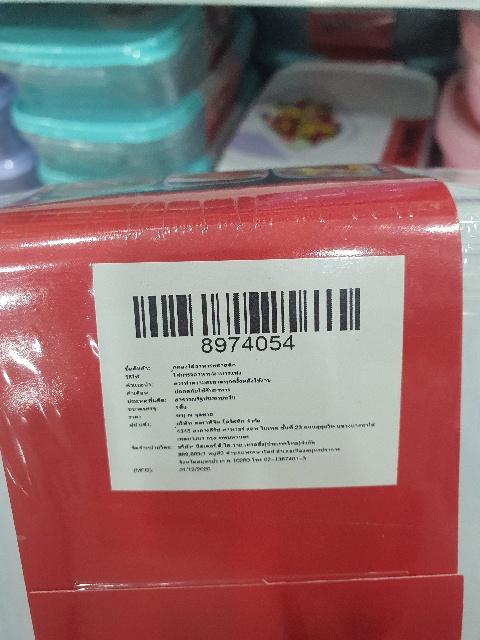Barcode: (121, 277, 375, 353)
